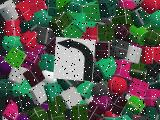Left: (53, 37, 95, 82)
